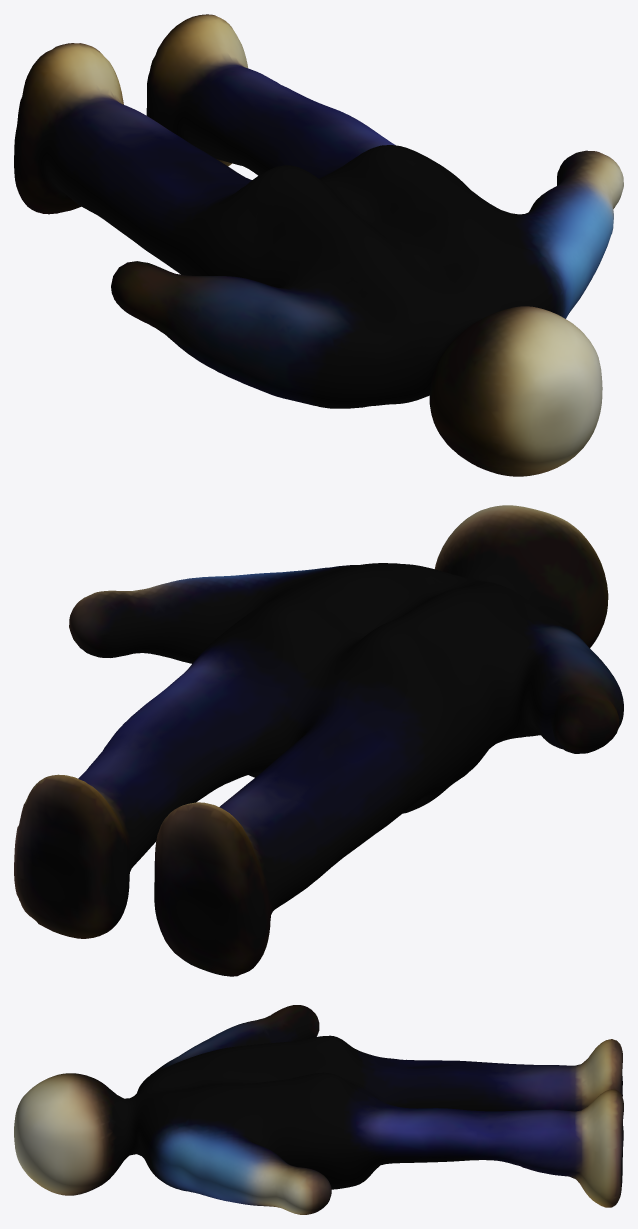
Rendered from grandfather.glb.
3 renders of one model, top to bottom at view 1: azimuth 30°, elevation 25°; view 2: azimuth 150°, elevation 25°; view 3: azimuth 270°, elevation 25°, orthographic. The views are drawn at different scales.
Size of the model in its own units: 0.6948 by 0.2394 by 0.9997.
